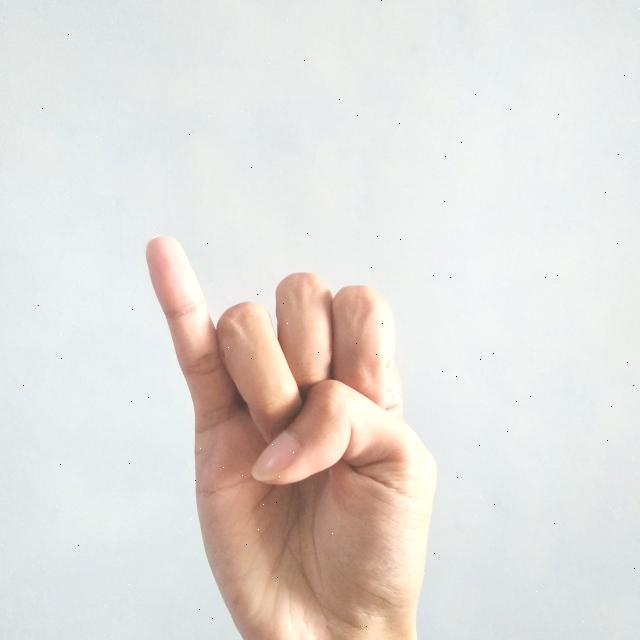I: (138, 229, 451, 640)
